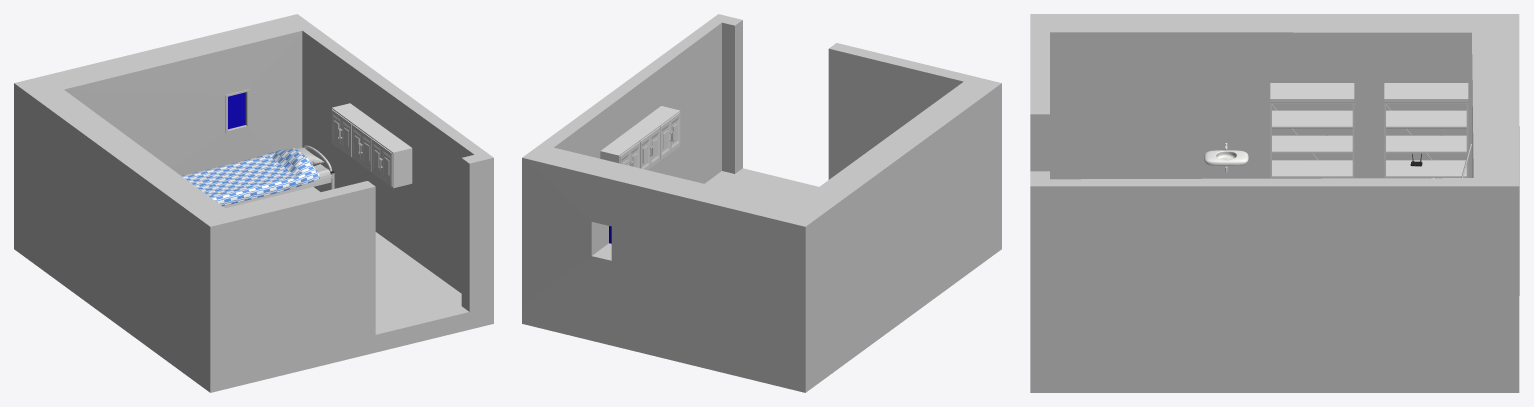
File: Local.fbx
The picture shows the model from 3 angles, left to right: view 1: azimuth 30°, elevation 25°; view 2: azimuth 150°, elevation 25°; view 3: azimuth 270°, elevation 25°; orthographic projection. The views are drawn at different scales.
Visible parts, largest first — view 1: Plane, Plane.001, Puerta Izquierda 1; view 2: Plane, Puerta Izquierda 1; view 3: Plane, Bookcase.001, Bookcase, Body8.
Boxes of the visible parts, x1=… form: Plane: x1=14, y1=14, x2=493, y2=392; Plane.001: x1=182, y1=145, x2=334, y2=208; Puerta Izquierda 1: x1=331, y1=103, x2=412, y2=188; Plane: x1=522, y1=14, x2=1001, y2=392; Puerta Izquierda 1: x1=600, y1=106, x2=680, y2=169; Plane: x1=1030, y1=14, x2=1519, y2=392; Bookcase.001: x1=1270, y1=83, x2=1354, y2=178; Bookcase: x1=1384, y1=83, x2=1468, y2=178; Body8: x1=1204, y1=143, x2=1248, y2=172.
Size of the model in its own units: 5 by 6 by 2.8.
21 materials, 2 textured.
